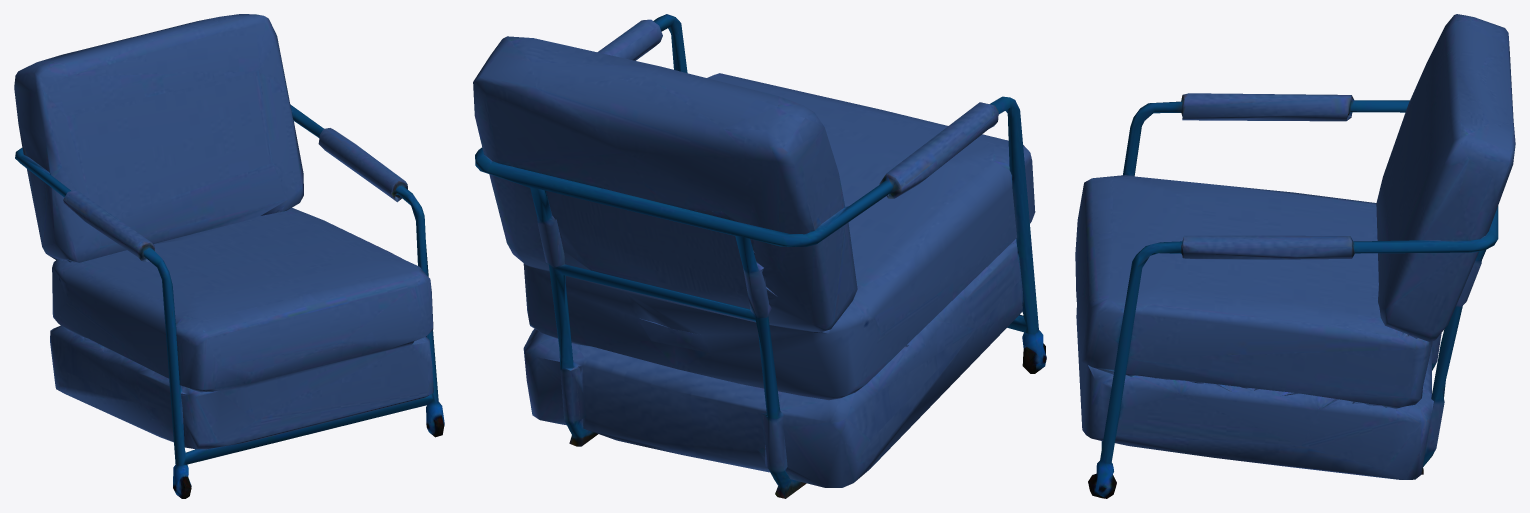
File: 01 - BRÄNNBOLL Gaming lounge chair - Knisa bright blue.glb
3 views of the same model, side by side, from view 1: azimuth 30°, elevation 25°; view 2: azimuth 150°, elevation 25°; view 3: azimuth 270°, elevation 25° (orthographic). The views are drawn at different scales.
Parts seen in each view (by area): view 1: ASY_ART_70586615_S01_NV01; view 2: ASY_ART_70586615_S01_NV01; view 3: ASY_ART_70586615_S01_NV01.
Boxes of the visible parts, x1,y1,x2,y2 form: ASY_ART_70586615_S01_NV01: (14,14,444,498); ASY_ART_70586615_S01_NV01: (473,14,1046,498); ASY_ART_70586615_S01_NV01: (1075,14,1515,498).
Bounding box in the file's own units: 0.7239 × 0.8008 × 0.8864.
2 materials, 2 textured.
